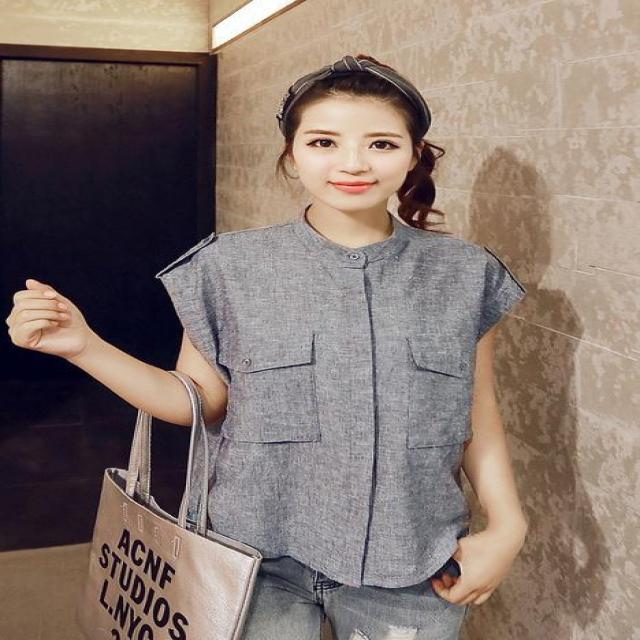short-sleeve-top: (161, 213, 554, 578)
